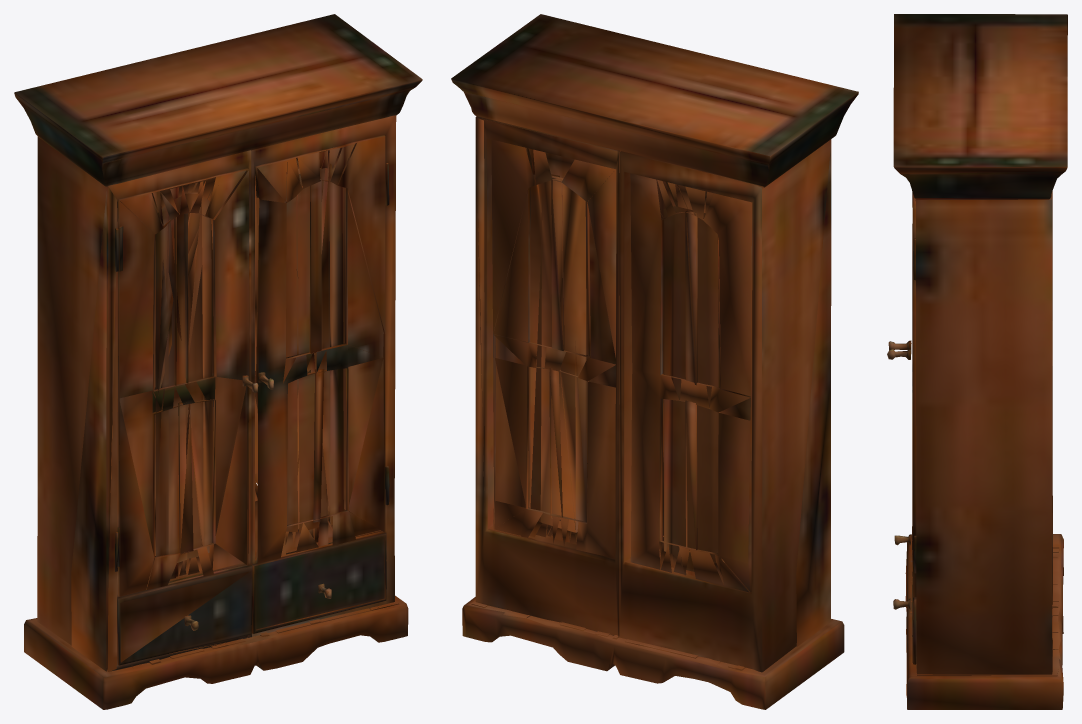
Rendered from wardrobe.lod1.glb.
The picture shows the model from 3 angles, left to right: view 1: azimuth 30°, elevation 25°; view 2: azimuth 150°, elevation 25°; view 3: azimuth 270°, elevation 25°; orthographic projection. The views are drawn at different scales.
Bounding box in the file's own units: 1.2 × 2 × 0.5991.
Materials: 1 (1 with a texture image).
